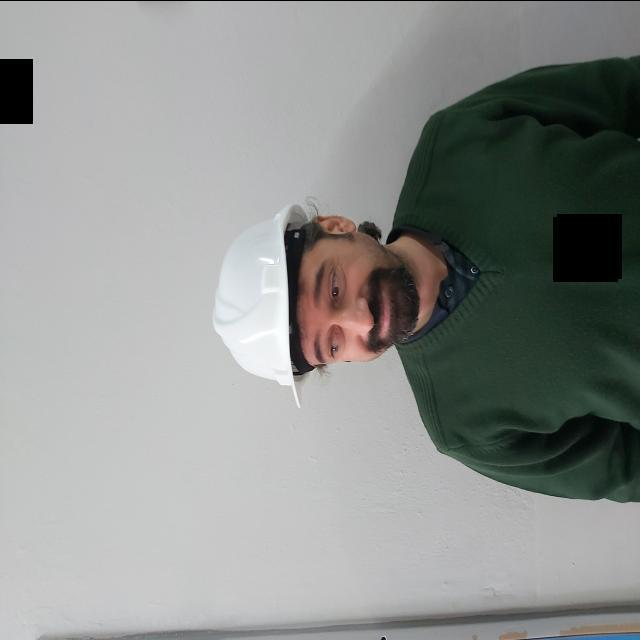white helmet: (216, 194, 321, 416)
